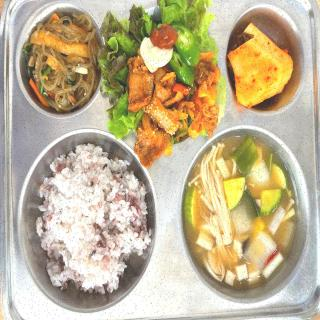Nasi: (38, 143, 152, 295)
